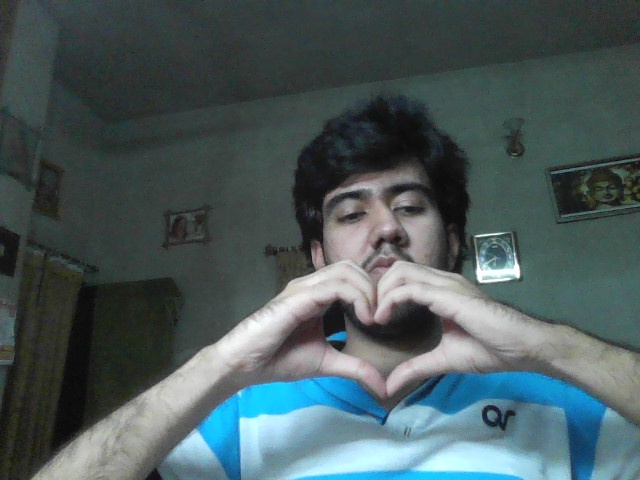Love: (245, 259, 515, 399)
